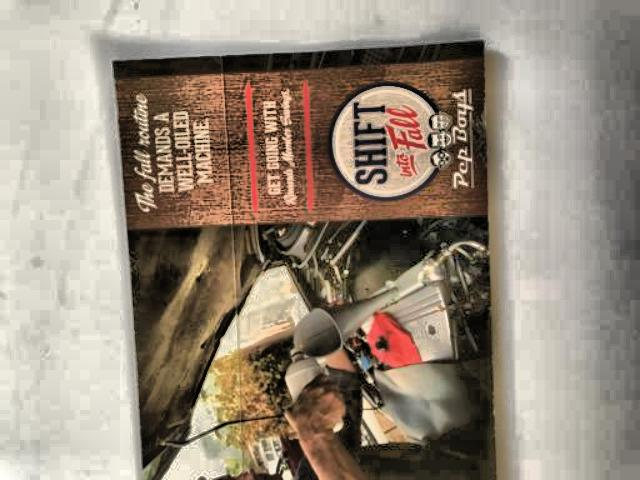Paper: (102, 31, 508, 480)
